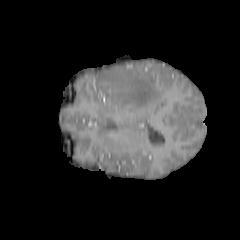glioma: (94, 65, 165, 111)
